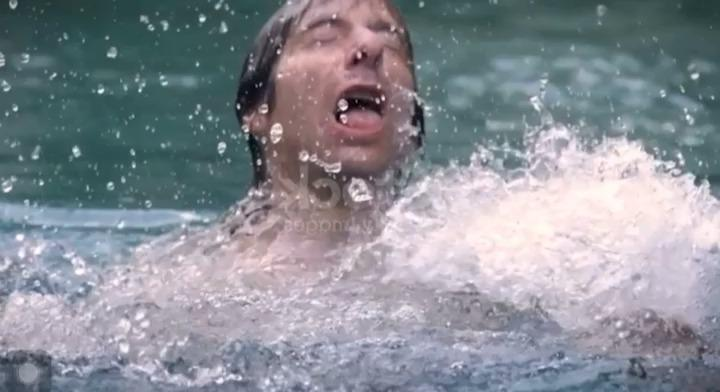Drowning: (22, 4, 690, 313)
